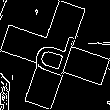P_S: (29, 25, 81, 85)
